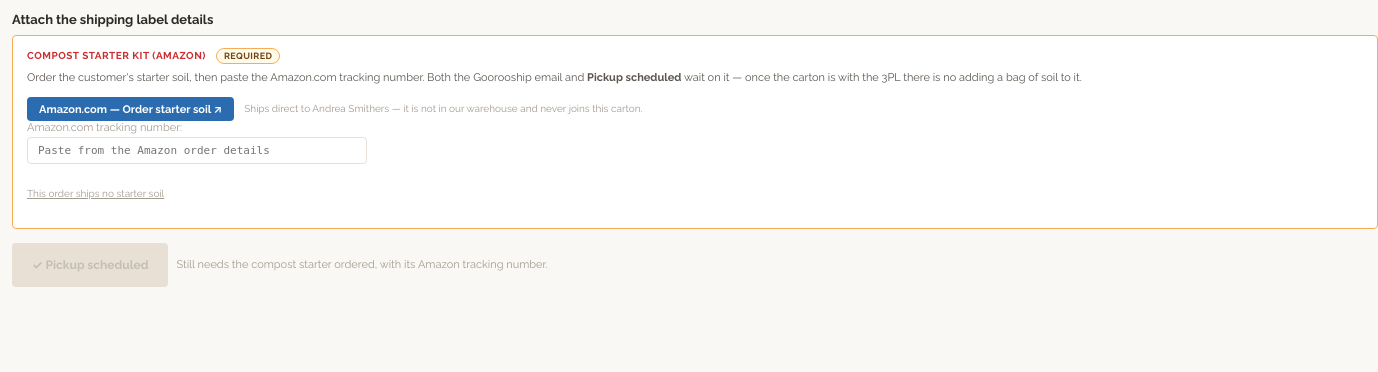
Test: StepLabel — an order that ships no starter is not stranded › will not record an exemption with no reason
Click the button "This order ships no starter soil" at (96, 194), box [27, 172, 164, 216]
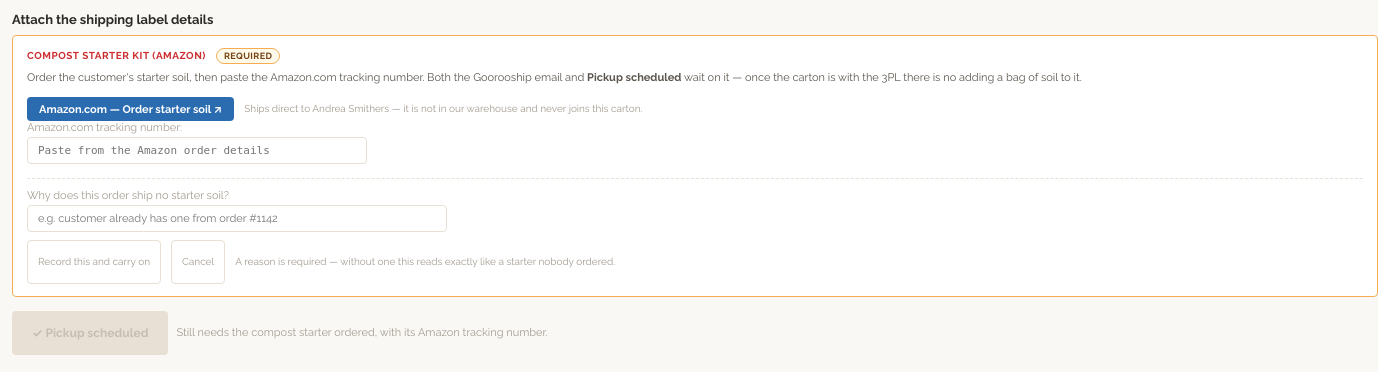
Expected: the button "Record this and carry on" is disabled, [27, 240, 161, 284]
